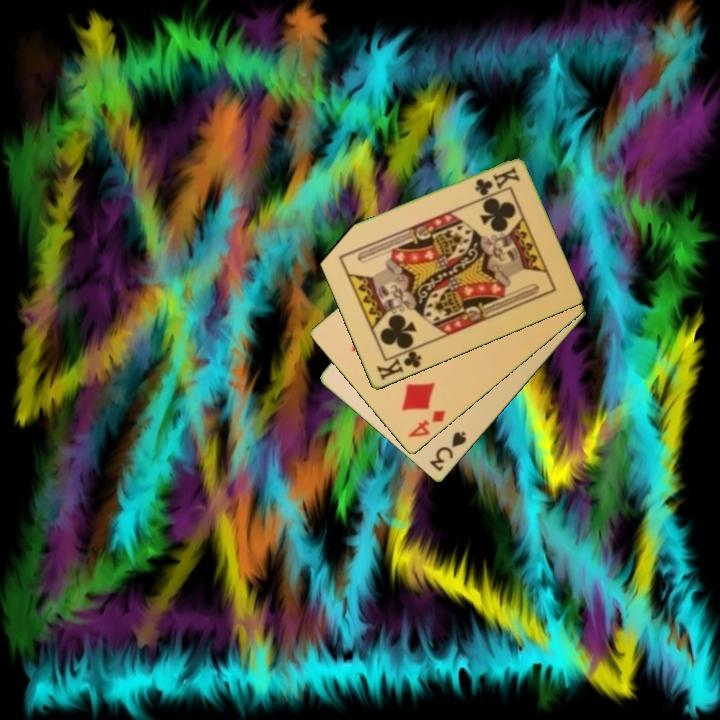3s: (426, 428, 470, 475)
4d: (404, 407, 448, 441)
Kc: (373, 344, 424, 384), (471, 163, 522, 199)
